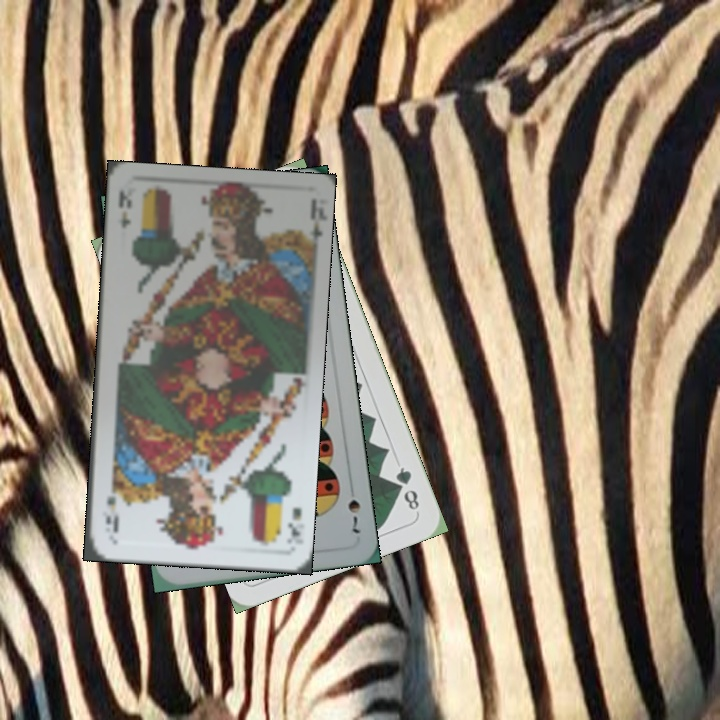EK: (283, 504, 305, 547), (114, 186, 134, 232)
G8: (391, 463, 422, 513)
S7: (343, 495, 363, 537)
